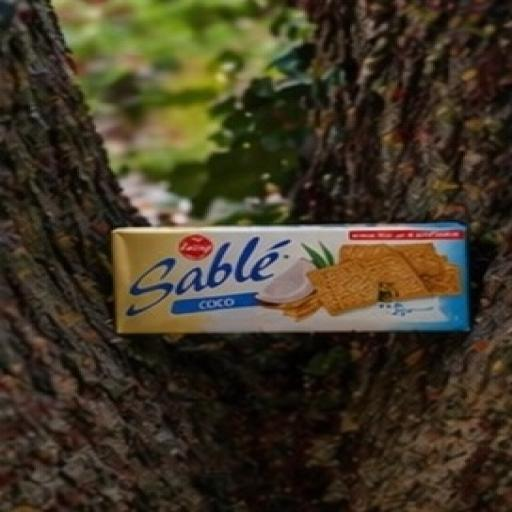sable: (54, 167, 490, 402)
